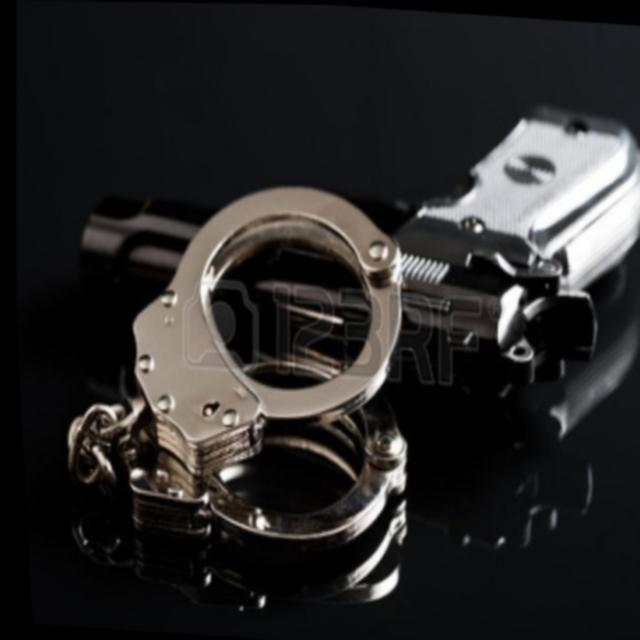weapon: (65, 69, 640, 388)
